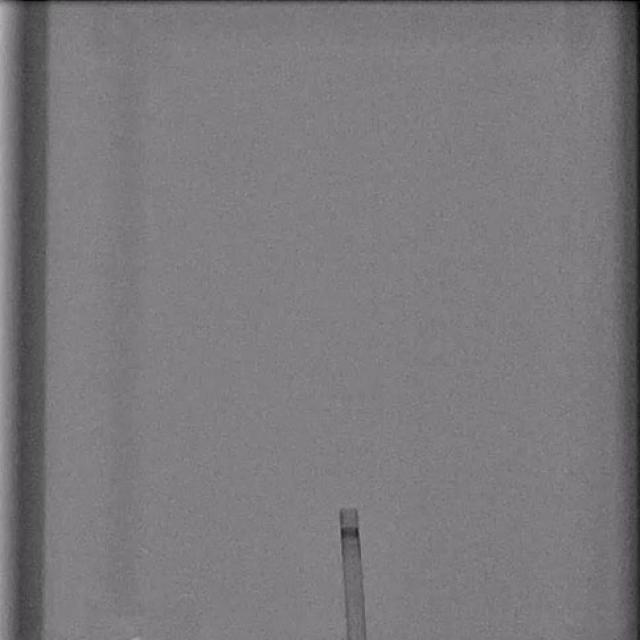entry: (347, 635, 367, 640)
marker: (340, 527, 360, 539)
tip: (340, 508, 357, 514)
